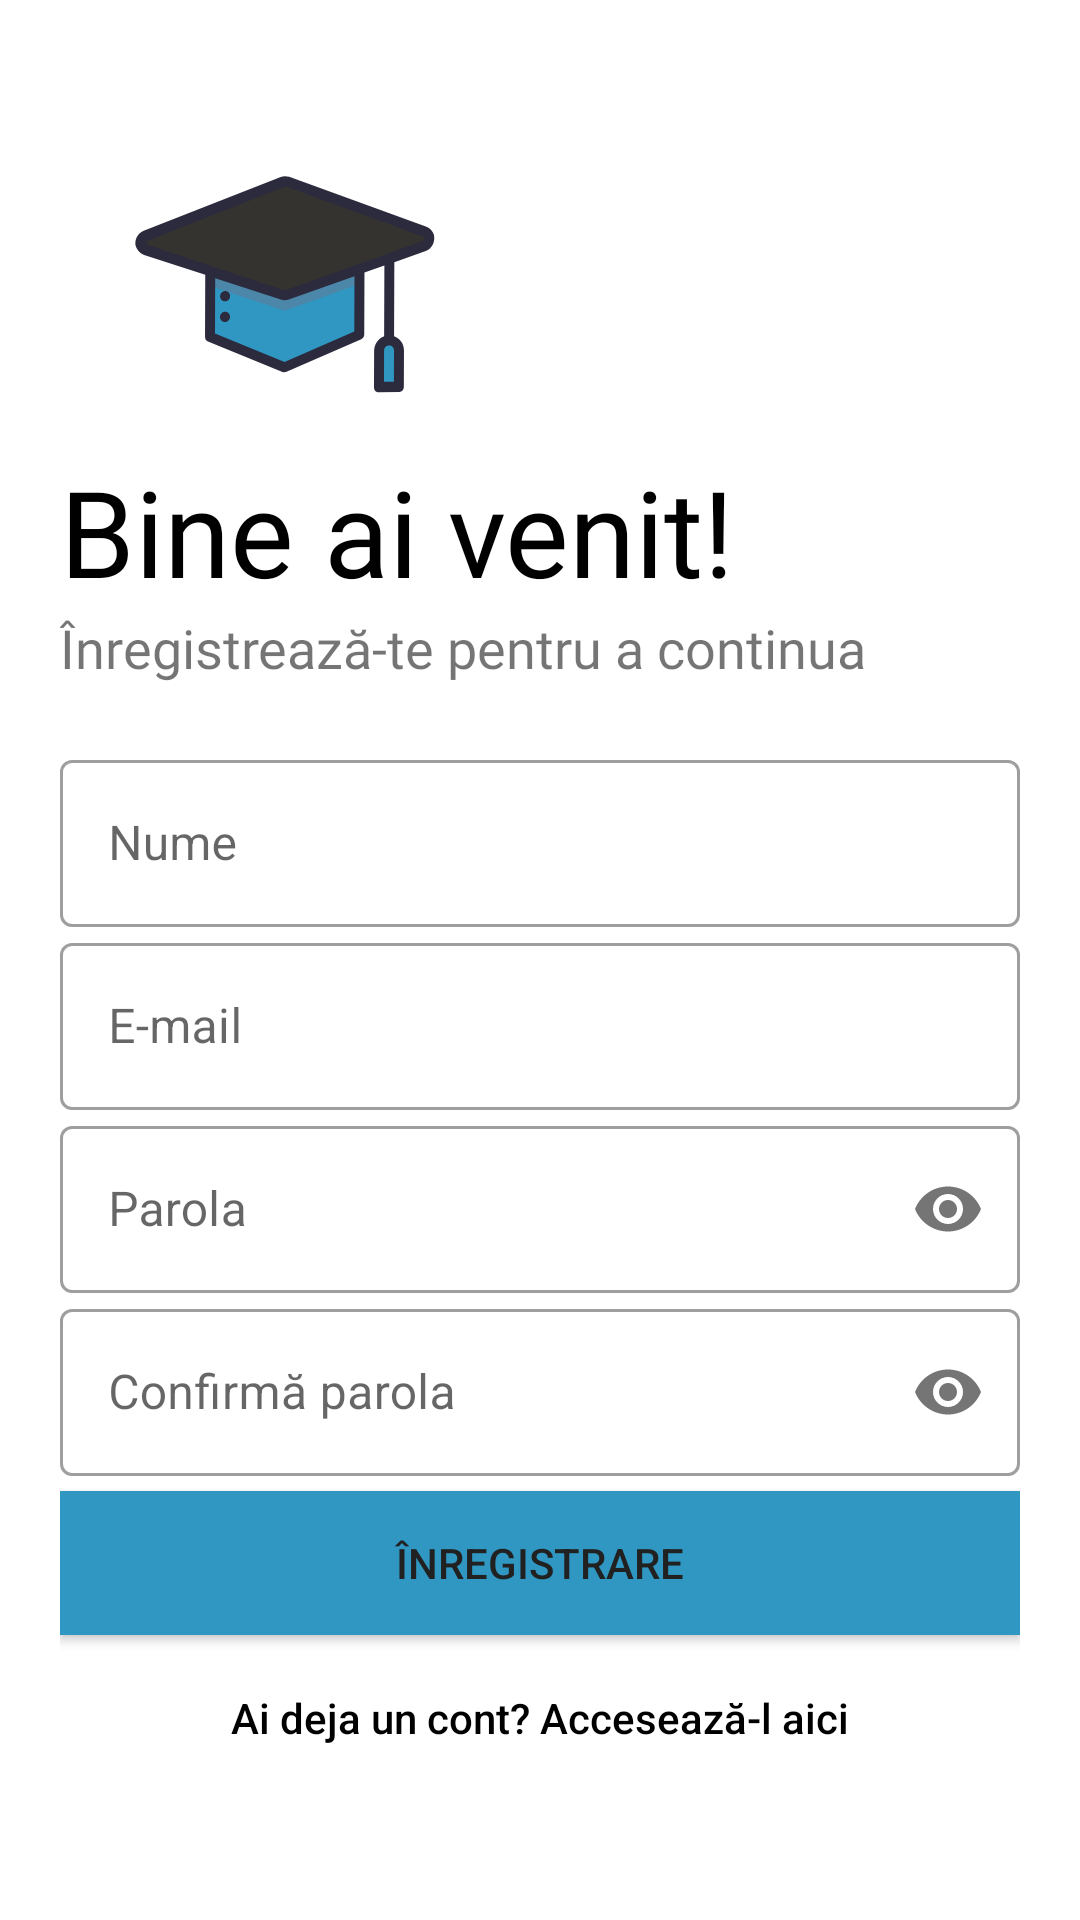

Icon click points for this 1080px×1920px phone screenshot, format (x=x, y=y):
toca single: (x=285, y=340)
